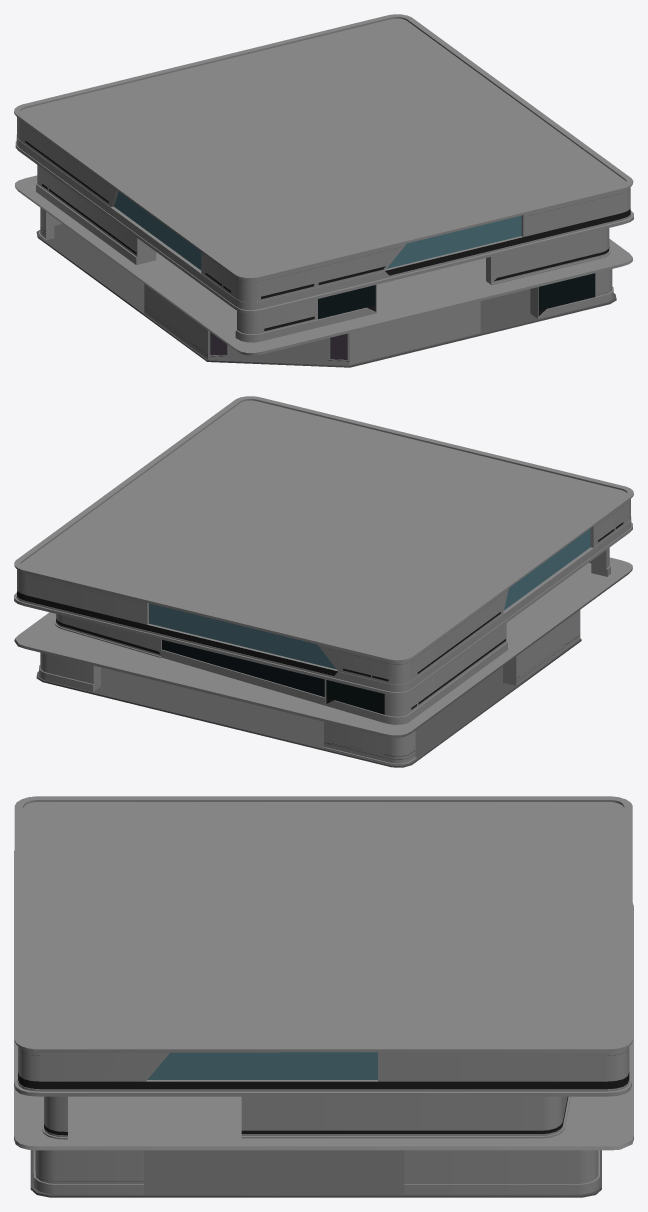
Rendered from Building_002_1st_L1.fbx.
3 views of the same model, one above another, from view 1: azimuth 30°, elevation 25°; view 2: azimuth 150°, elevation 25°; view 3: azimuth 270°, elevation 25° (orthographic). The views are drawn at different scales.
Parts seen in each view (by area): view 1: Building_002_1st_L1; view 2: Building_002_1st_L1; view 3: Building_002_1st_L1.
Boxes of the visible parts, box(x1,y1,x2,y2) form: Building_002_1st_L1: box(14, 14, 633, 367); Building_002_1st_L1: box(14, 396, 633, 767); Building_002_1st_L1: box(14, 796, 633, 1197).
Size of the model in its own units: 55.24 by 57.14 by 15.78.
